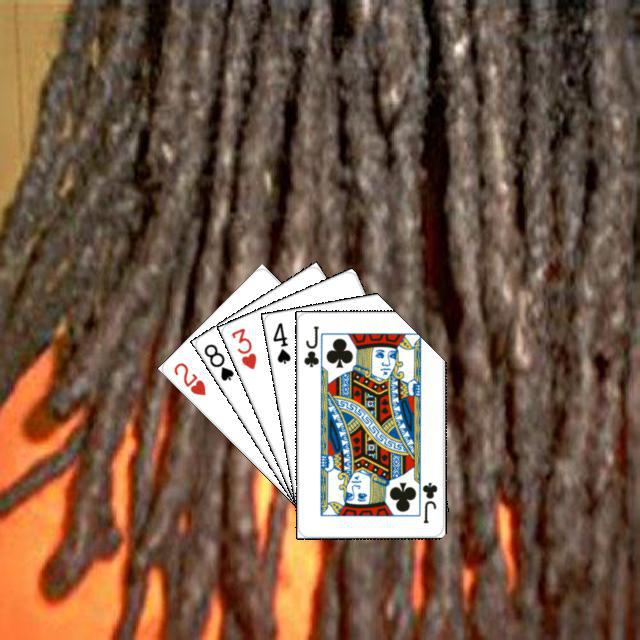2h: (169, 357, 207, 397)
3h: (226, 323, 258, 371)
4s: (268, 318, 292, 366)
8s: (199, 339, 236, 383)
Jc: (417, 477, 439, 525), (299, 321, 320, 369)
